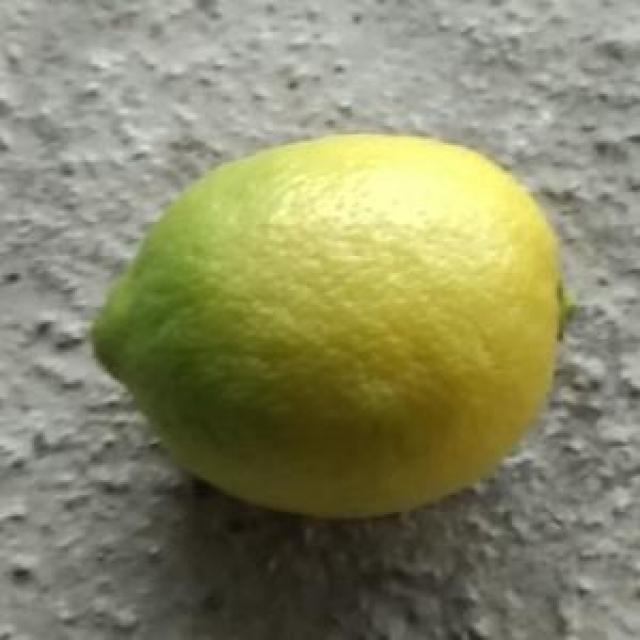lemon: (80, 125, 571, 514)
